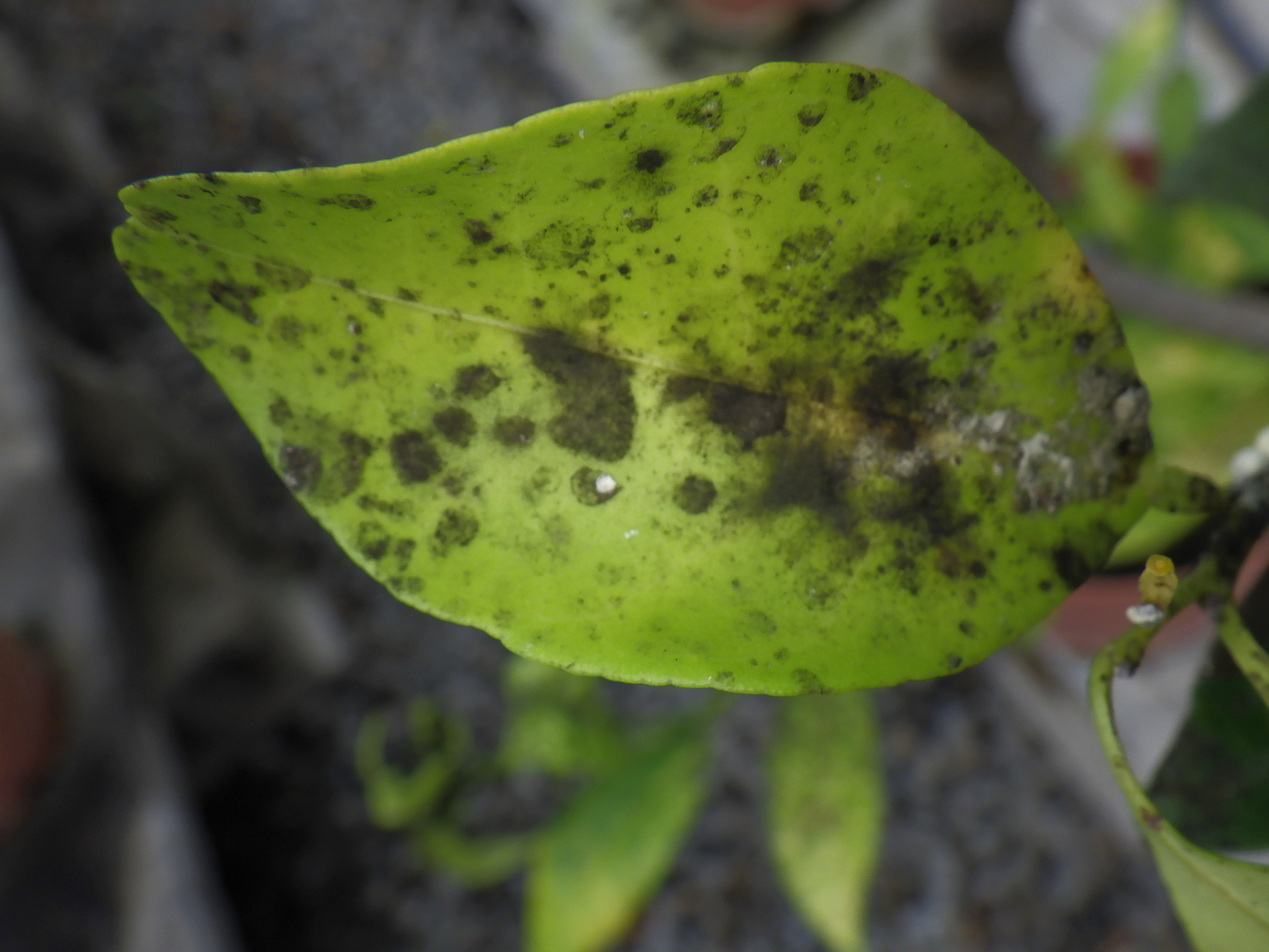Sooty_Mold: (115, 63, 1205, 694)
